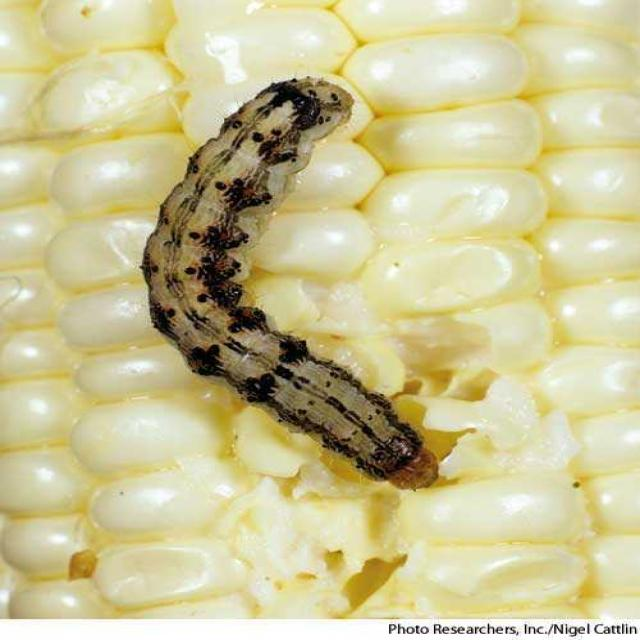worm: (140, 75, 442, 492)
